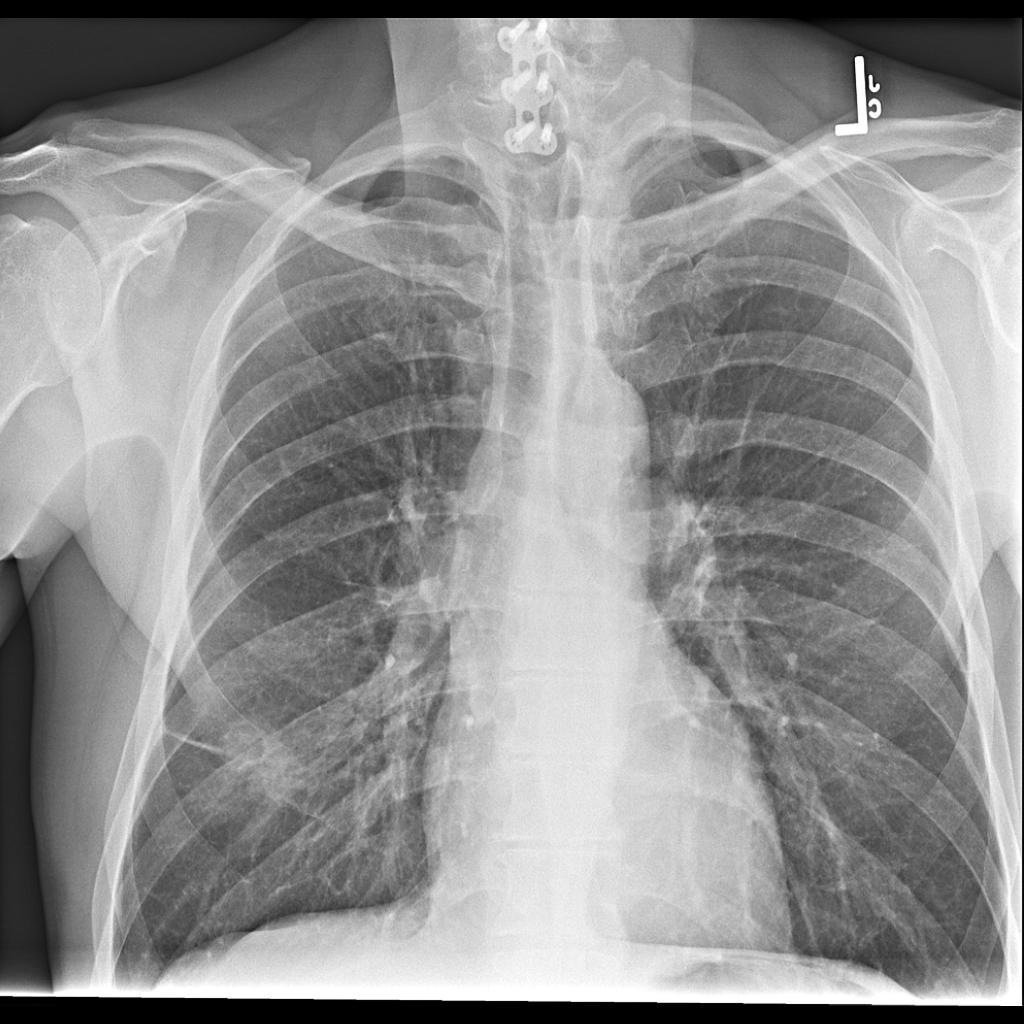Nodule: (200, 706, 320, 813)
